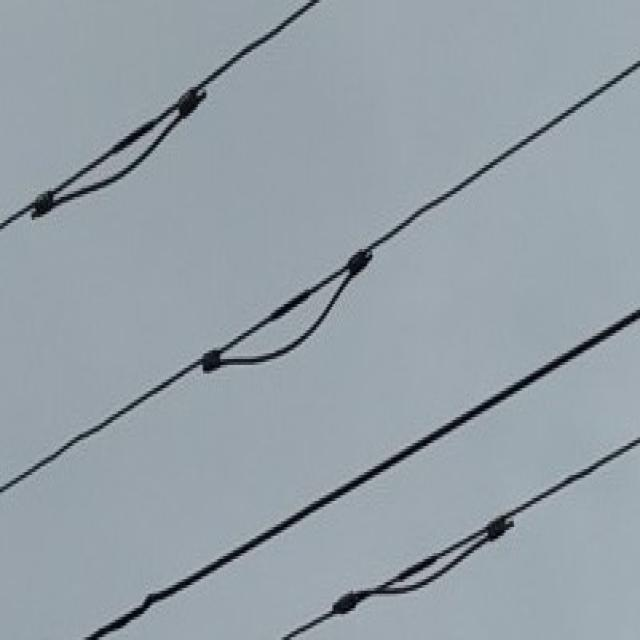wire: (70, 302, 640, 640), (259, 431, 640, 640)
